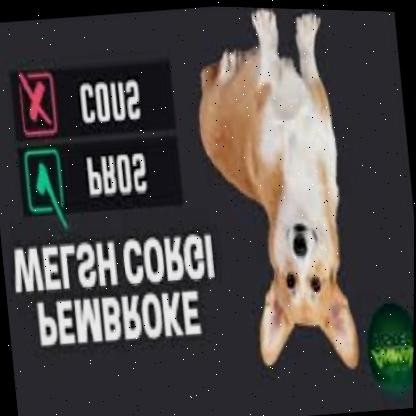dog: (184, 6, 365, 384)
